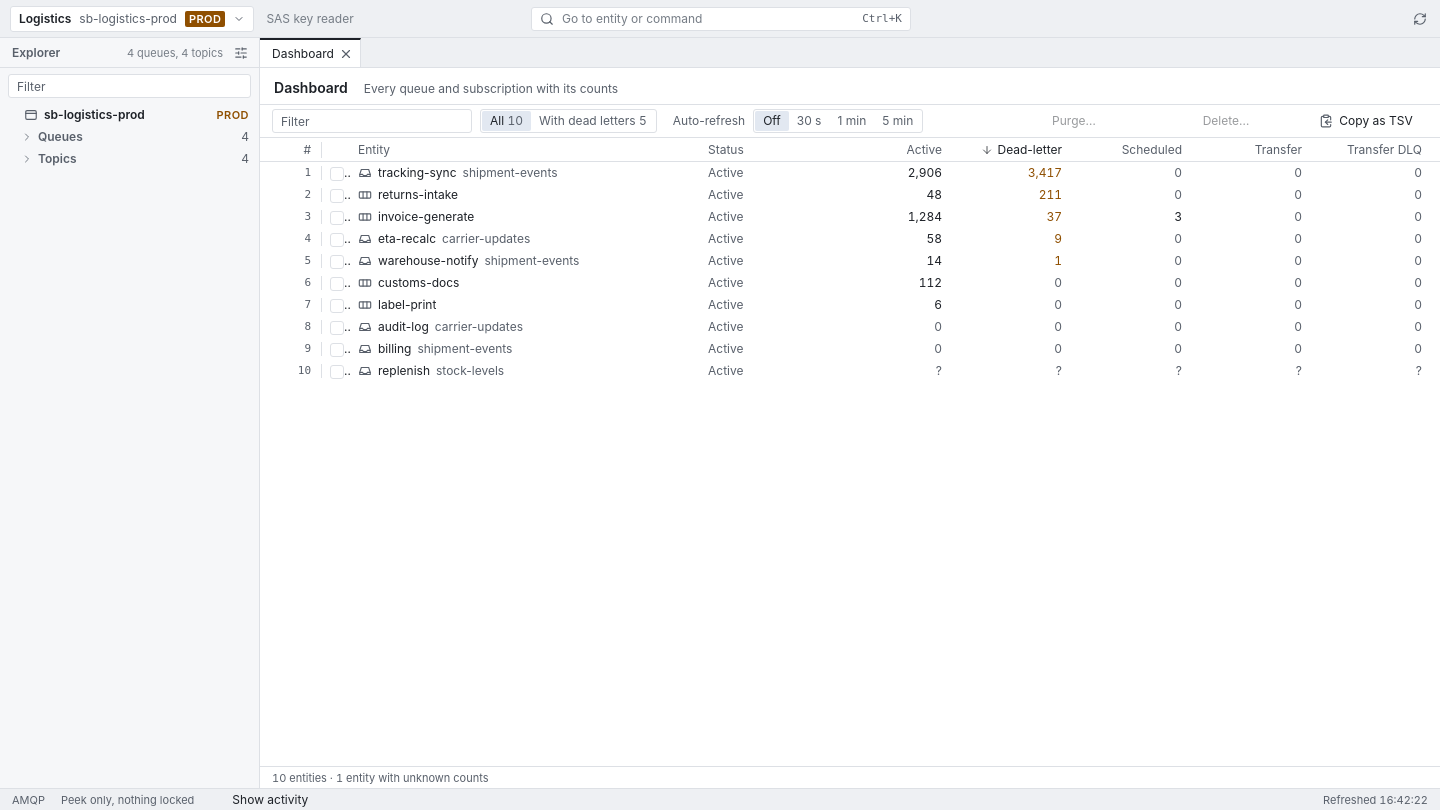
PurgeSheet › the Dashboard purges the rows picked with their checkboxes
The image size is (1440, 810).
Check: the button "Purge…" is disabled, box [1000,109,1148,133]
Click the checkbox named "Select label-print" at (337, 306), box [330,299,344,313]
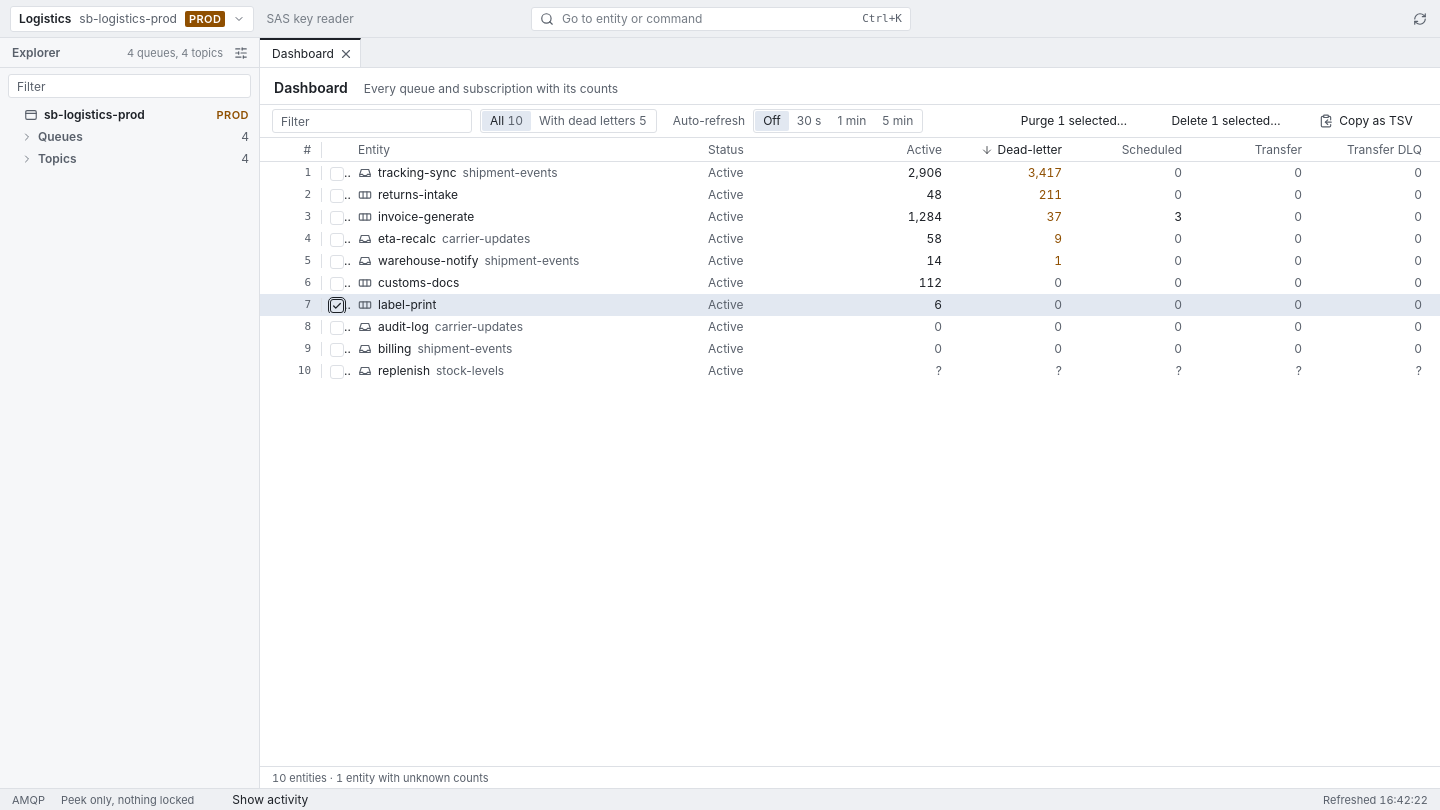
Click the checkbox named "Select customs-docs" at (337, 284), box [330,277,344,291]
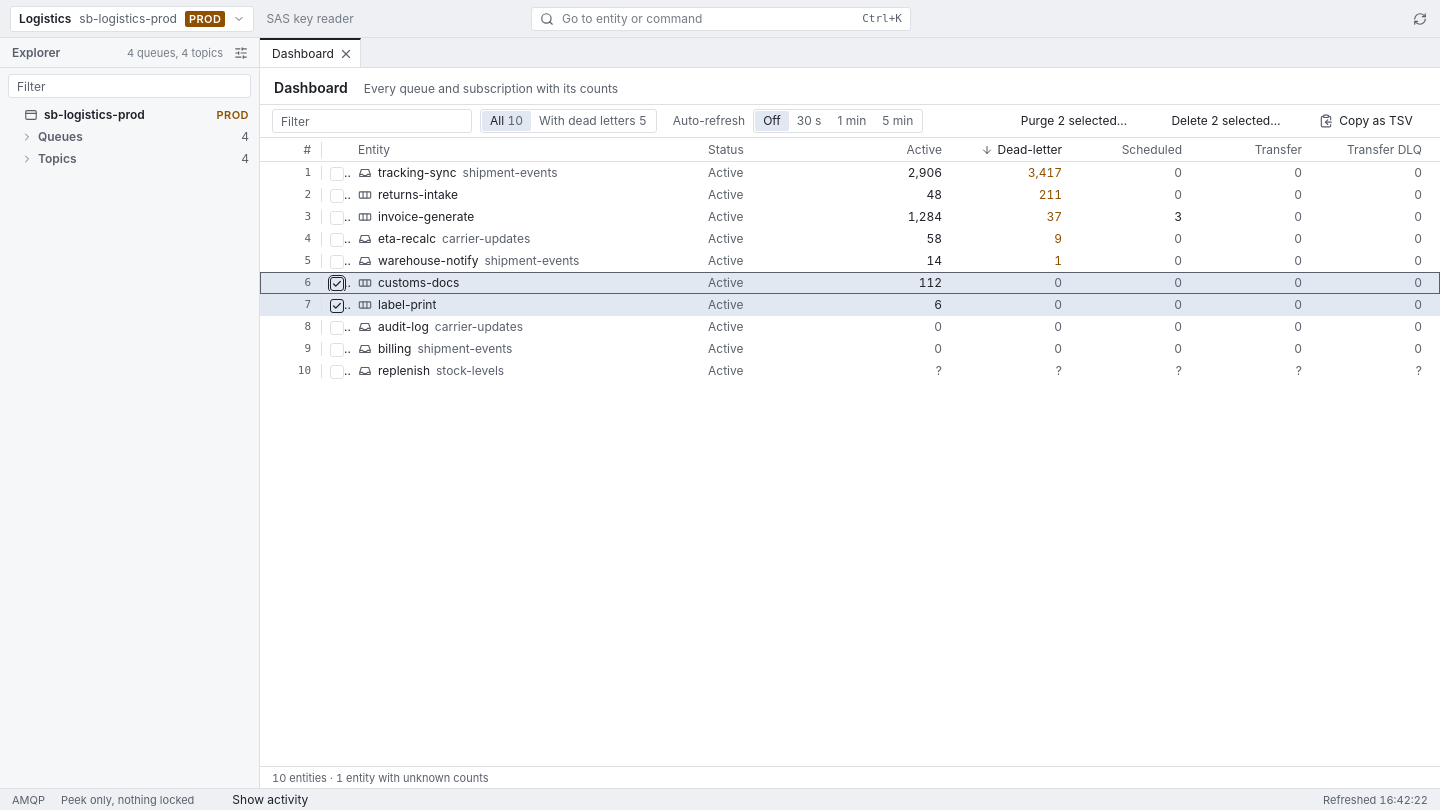
Click the button "Purge 2 selected…" at (1074, 121), box [1000,109,1148,133]
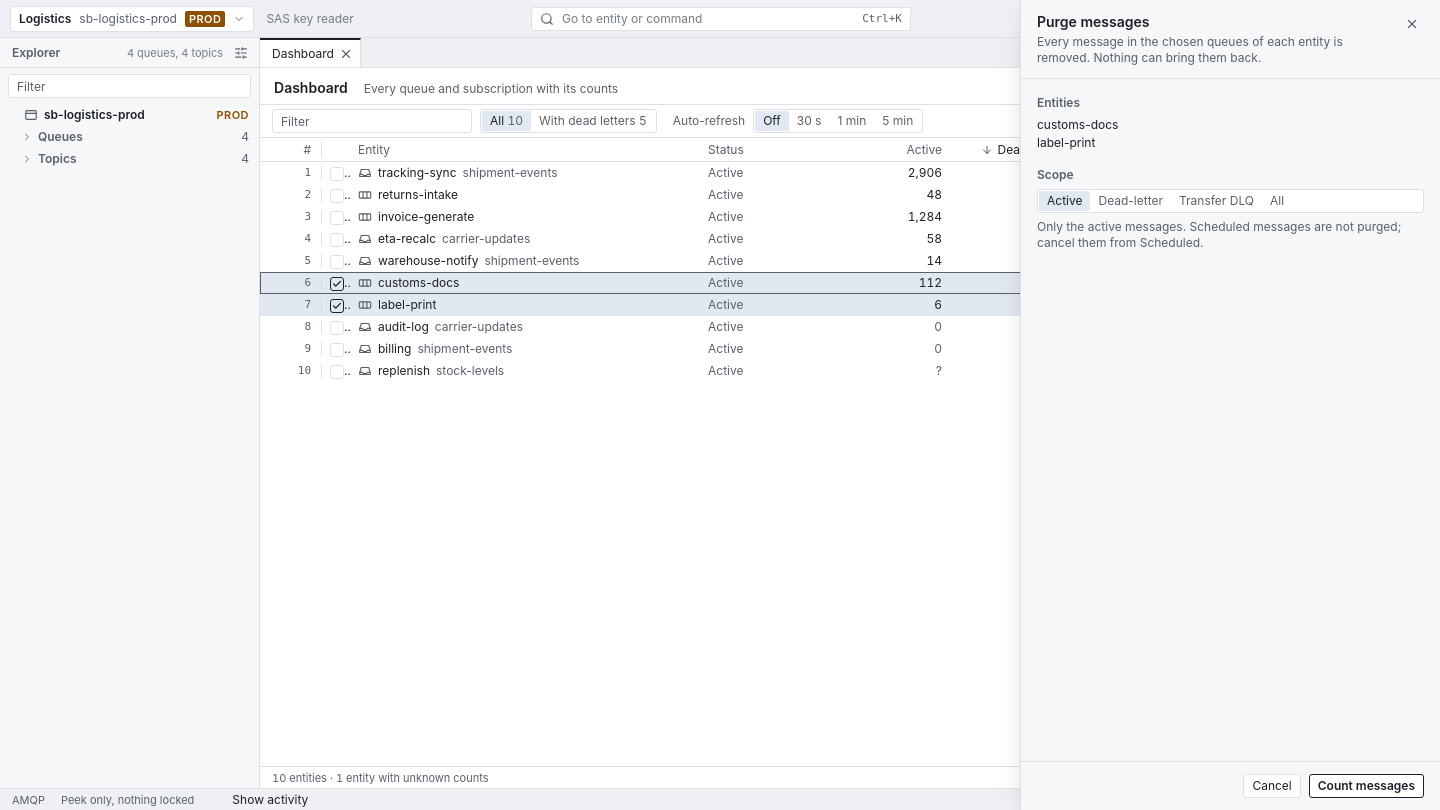
Check: the list item "label-print" is shown, box [1037,135,1095,150]
Check: the list item "customs-docs" is shown, box [1037,117,1118,132]
